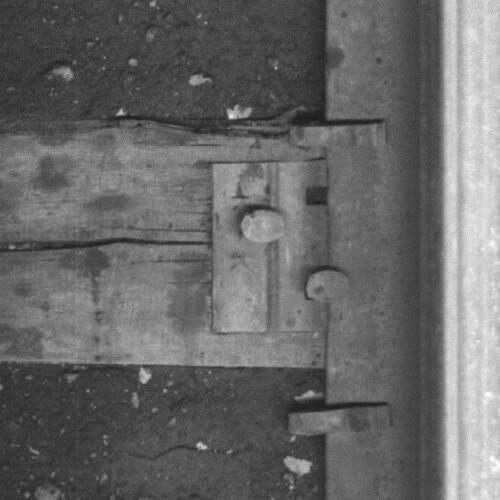crutch: (289, 403, 394, 436), (288, 119, 389, 148)
do: (209, 159, 351, 332)
hole_do: (297, 175, 338, 215)
rail: (438, 1, 500, 500)
tie_wood: (1, 126, 326, 372)
wood_crack: (1, 233, 211, 257)
